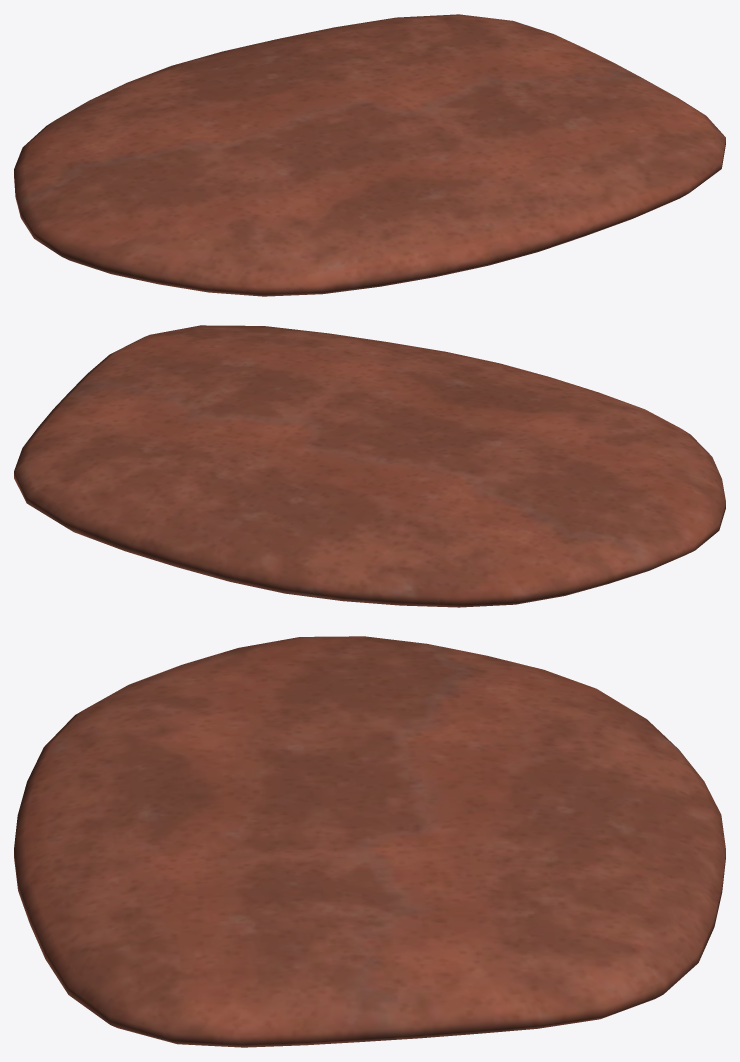
The model's file is red_sandstone_01.glb.
3 renders of one model, top to bottom at view 1: azimuth 30°, elevation 25°; view 2: azimuth 150°, elevation 25°; view 3: azimuth 270°, elevation 25°, orthographic. The views are drawn at different scales.
Visible parts, largest first — view 1: red_sandstone_01; view 2: red_sandstone_01; view 3: red_sandstone_01.
Boxes of the visible parts, box(x1,y1,x2,y2) form: red_sandstone_01: box(14, 14, 725, 296); red_sandstone_01: box(14, 325, 725, 607); red_sandstone_01: box(14, 636, 725, 1047).
Size of the model in its own units: 0.0819 by 0.00818 by 0.0622.
Materials: 1 (1 with a texture image).
